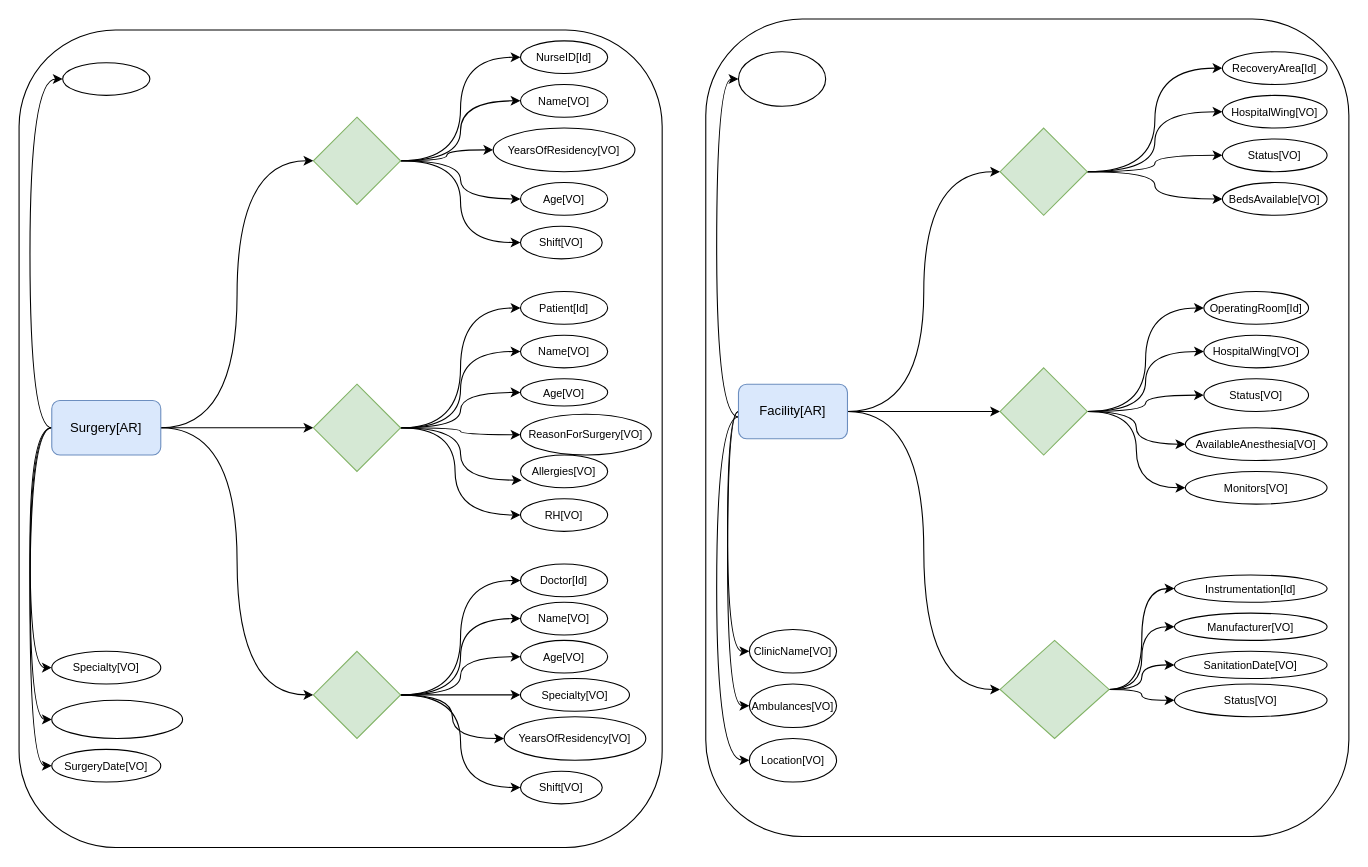
This 1368x867 diagram has some shape labels left out. The centre of each missing label's shape, as x and y in pixels:
AnesthisiaMethod[VO]: the point at 117,718
Doctor[E]: the point at 356,694
FacilityID[Id]: the point at 781,78
Instrumentation[E]: the point at 1054,688
Nurse[E]: the point at 356,160
Operating Room[E]: the point at 1043,411
Patient[E]: the point at 356,427
Recovery Area[E]: the point at 1043,171
SurgeryID[Id]: the point at 106,78
